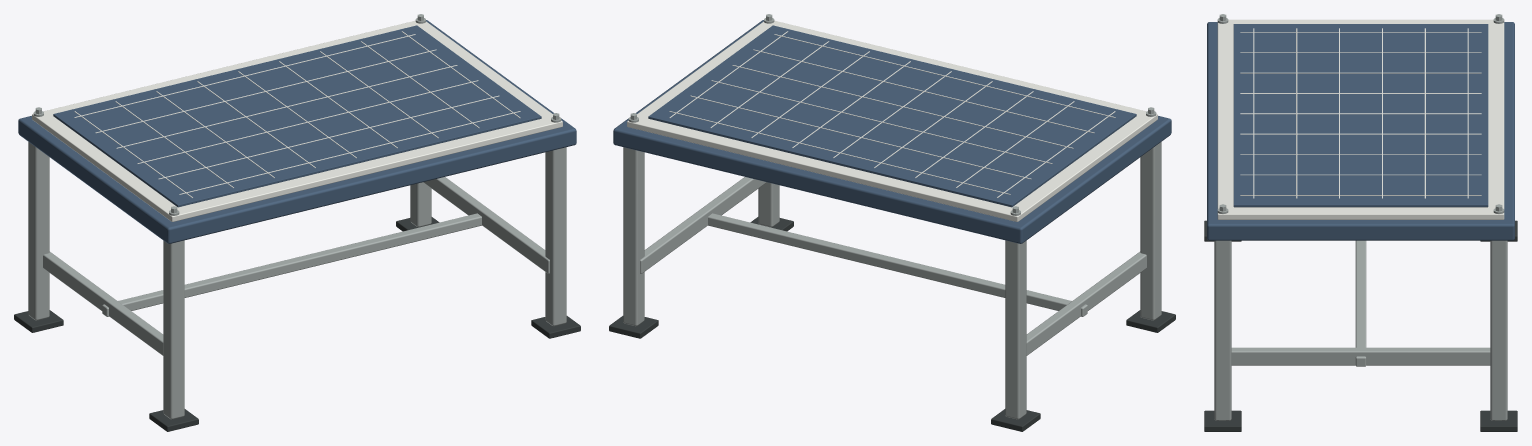
The model's file is spacecraft-parachute-packing-hall-spacecraft-parachute-6e25ce48__32106.glb.
3 views of the same model, side by side, from view 1: azimuth 30°, elevation 25°; view 2: azimuth 150°, elevation 25°; view 3: azimuth 270°, elevation 25° (orthographic). The views are drawn at different scales.
Parts seen in each view (by area): view 1: spacecraft-parachute-packing-hall-fabric-cutting-table; view 2: spacecraft-parachute-packing-hall-fabric-cutting-table; view 3: spacecraft-parachute-packing-hall-fabric-cutting-table.
Part boxes in pixels (x1,y1,x2,y2): spacecraft-parachute-packing-hall-fabric-cutting-table: (14,14,580,431); spacecraft-parachute-packing-hall-fabric-cutting-table: (609,14,1175,431); spacecraft-parachute-packing-hall-fabric-cutting-table: (1204,14,1517,431).
Bounding box in the file's own units: 1.82 × 0.9 × 1.17.
